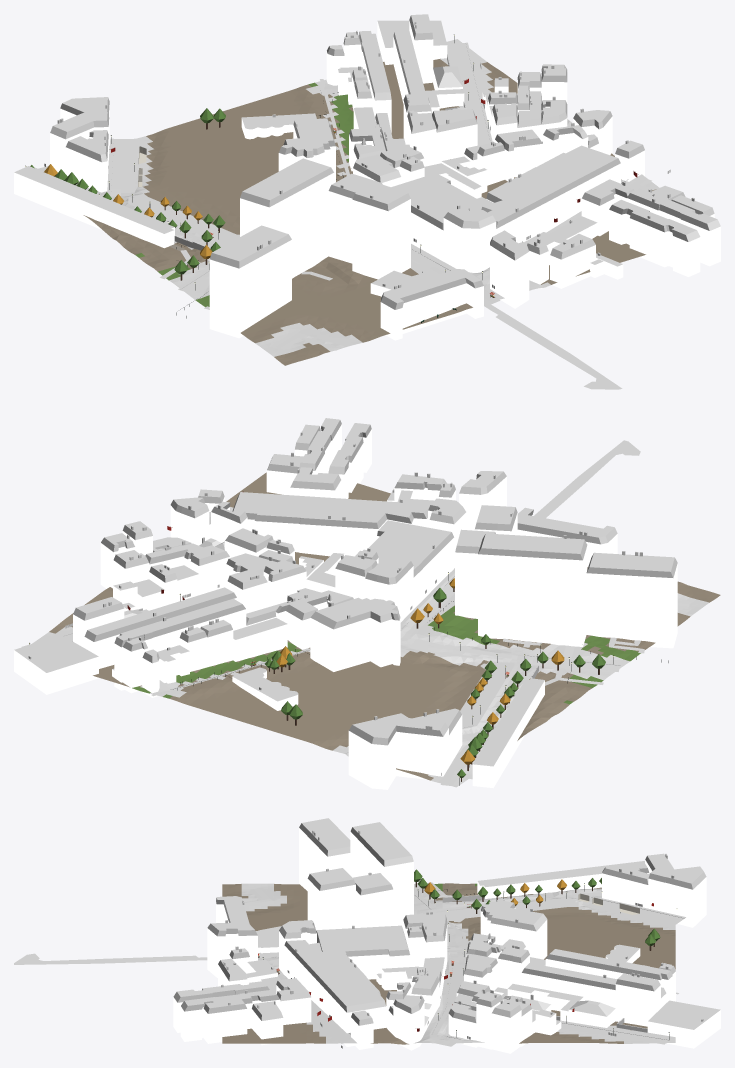
Rendered from zone_G6.glb.
3 renders of one model, top to bottom at view 1: azimuth 30°, elevation 25°; view 2: azimuth 150°, elevation 25°; view 3: azimuth 270°, elevation 25°, orthographic. The views are drawn at different scales.
Parts seen in each view (by area): view 1: zone_G6_batiments, zone_G6_terrain, zone_G6_sol_NOCOL, zone_G6_decor_NOCOL; view 2: zone_G6_batiments, zone_G6_terrain, zone_G6_sol_NOCOL, zone_G6_decor_NOCOL; view 3: zone_G6_batiments, zone_G6_terrain, zone_G6_sol_NOCOL, zone_G6_decor_NOCOL.
Boxes of the visible parts, left/top/right/bottom form: zone_G6_batiments: left=14, top=14, right=720, bottom=340; zone_G6_terrain: left=38, top=39, right=659, bottom=365; zone_G6_sol_NOCOL: left=35, top=42, right=651, bottom=389; zone_G6_decor_NOCOL: left=25, top=34, right=621, bottom=322; zone_G6_batiments: left=14, top=418, right=677, bottom=789; zone_G6_terrain: left=32, top=472, right=720, bottom=787; zone_G6_sol_NOCOL: left=21, top=440, right=690, bottom=786; zone_G6_decor_NOCOL: left=29, top=572, right=668, bottom=785; zone_G6_batiments: left=173, top=818, right=720, bottom=1053; zone_G6_terrain: left=222, top=883, right=675, bottom=1044; zone_G6_sol_NOCOL: left=14, top=882, right=685, bottom=1046; zone_G6_decor_NOCOL: left=262, top=869, right=677, bottom=1039.
Bounding box in the file's own units: 223 × 45.71 × 327.
